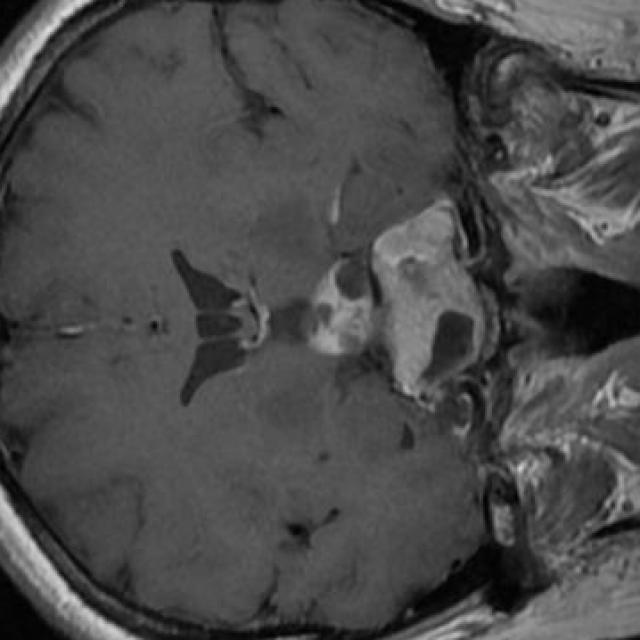pituitary: (305, 203, 485, 398)
